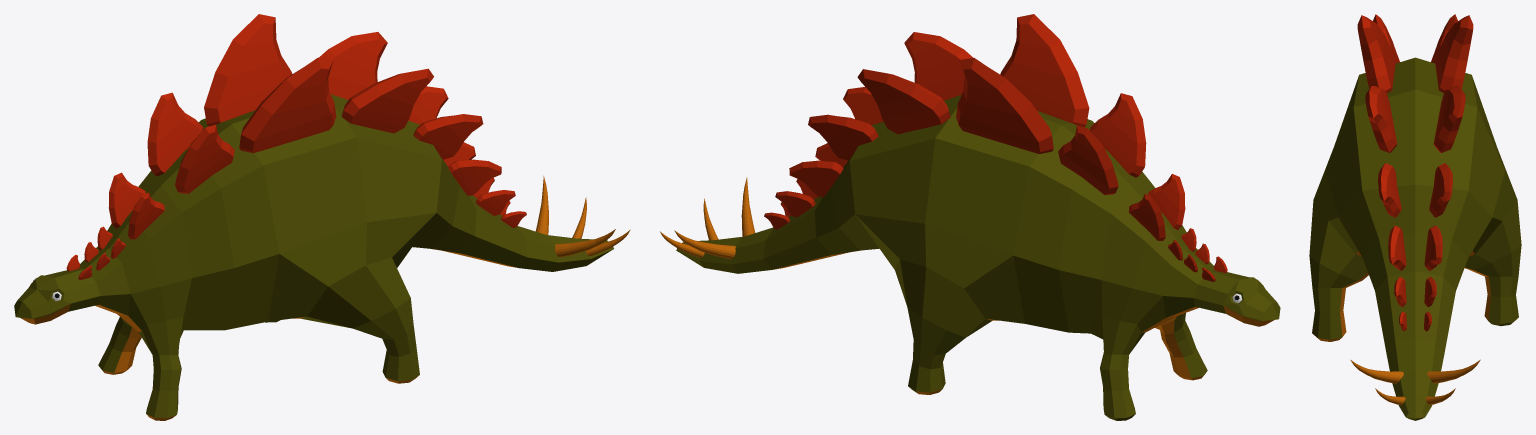
Rendered from Stegosaurus.fbx.
3 renders of one model, left to right at view 1: azimuth 30°, elevation 25°; view 2: azimuth 150°, elevation 25°; view 3: azimuth 270°, elevation 25°, orthographic. The views are drawn at different scales.
Parts seen in each view (by area): view 1: Box001, Box002, Box009, Box003, Box010, Box004, Box011, Cylinder001, Box012, Cylinder002; view 2: Box001, Box002, Box009, Box003, Box010, Box004, Box011, Cylinder001, Box012, Cylinder002; view 3: Box001, Box002, Box009, Box010, Box011, Cylinder001, Box012, Box003, Cylinder002, Box013.
Boxes of the visible parts, <box> form: Box001: <box>14,94,613,420</box>; Box002: <box>204,14,336,153</box>; Box009: <box>319,32,433,133</box>; Box003: <box>147,92,234,193</box>; Box010: <box>408,86,483,159</box>; Box004: <box>108,172,164,239</box>; Box011: <box>443,142,501,195</box>; Cylinder001: <box>535,176,615,257</box>; Box012: <box>473,177,515,215</box>; Cylinder002: <box>572,197,630,255</box>; Box001: <box>676,95,1280,420</box>; Box002: <box>956,14,1089,153</box>; Box009: <box>857,32,973,134</box>; Box003: <box>1058,93,1146,194</box>; Box010: <box>808,87,883,160</box>; Box004: <box>1128,174,1185,240</box>; Box011: <box>789,143,847,196</box>; Cylinder001: <box>674,178,755,259</box>; Box012: <box>775,179,818,217</box>; Cylinder002: <box>660,198,718,257</box>; Box001: <box>1309,57,1521,420</box>; Box002: <box>1357,15,1473,93</box>; Box009: <box>1365,86,1465,152</box>; Box010: <box>1378,163,1452,217</box>; Box011: <box>1388,225,1442,270</box>; Cylinder001: <box>1350,359,1480,383</box>; Box012: <box>1394,276,1436,307</box>; Box003: <box>1373,14,1457,63</box>; Cylinder002: <box>1375,388,1455,405</box>; Box013: <box>1399,311,1431,331</box>.
Bounding box in the file's own units: 106 × 54.98 × 36.11.
